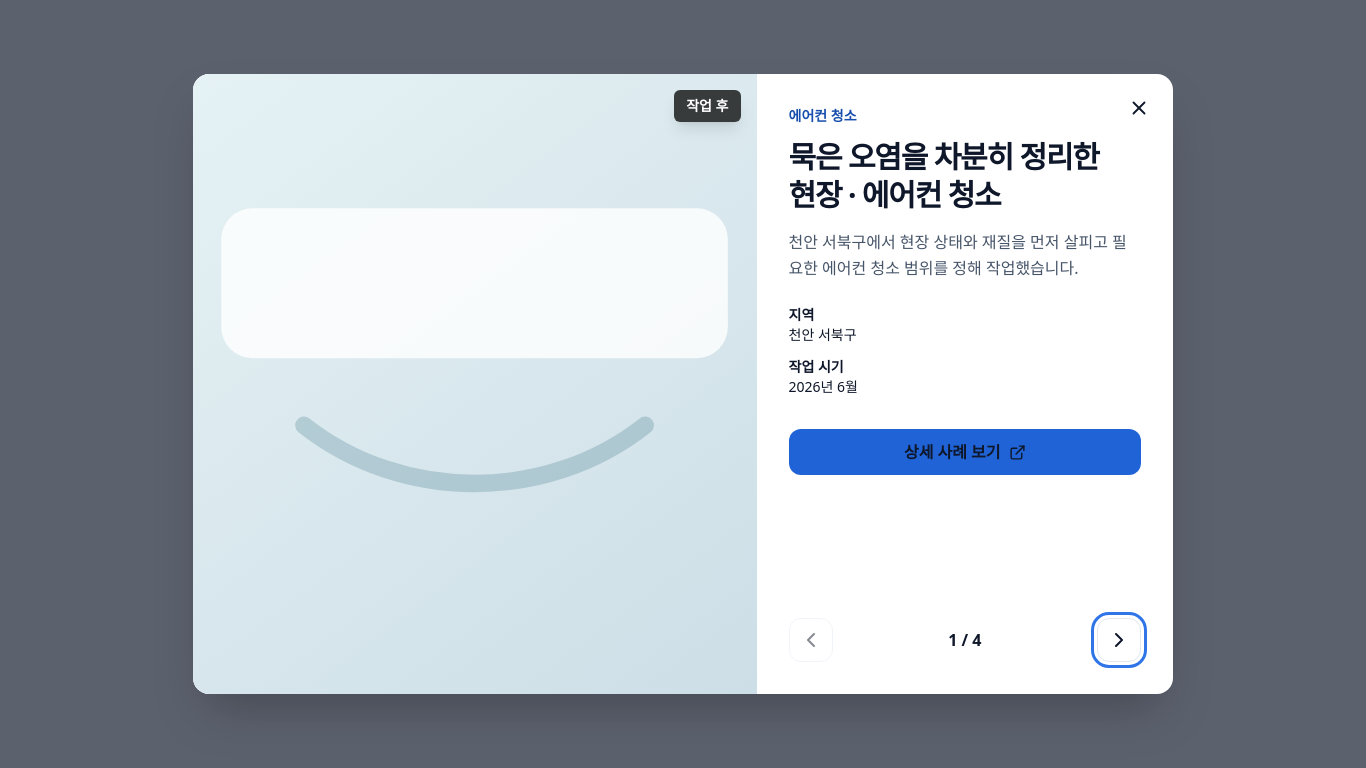
Scenario: case exploration › opens an accessible quick view and traverses only the supplied filtered list
Expected: the text with test id "quick-view-stage-badge" reads "작업 후", [686,96,728,115]
Expected: the button named "이전 사례" is disabled, [788,618,832,662]
Click the button named "다음 사례".
click(1119, 640)  # box [1097,618,1141,662]
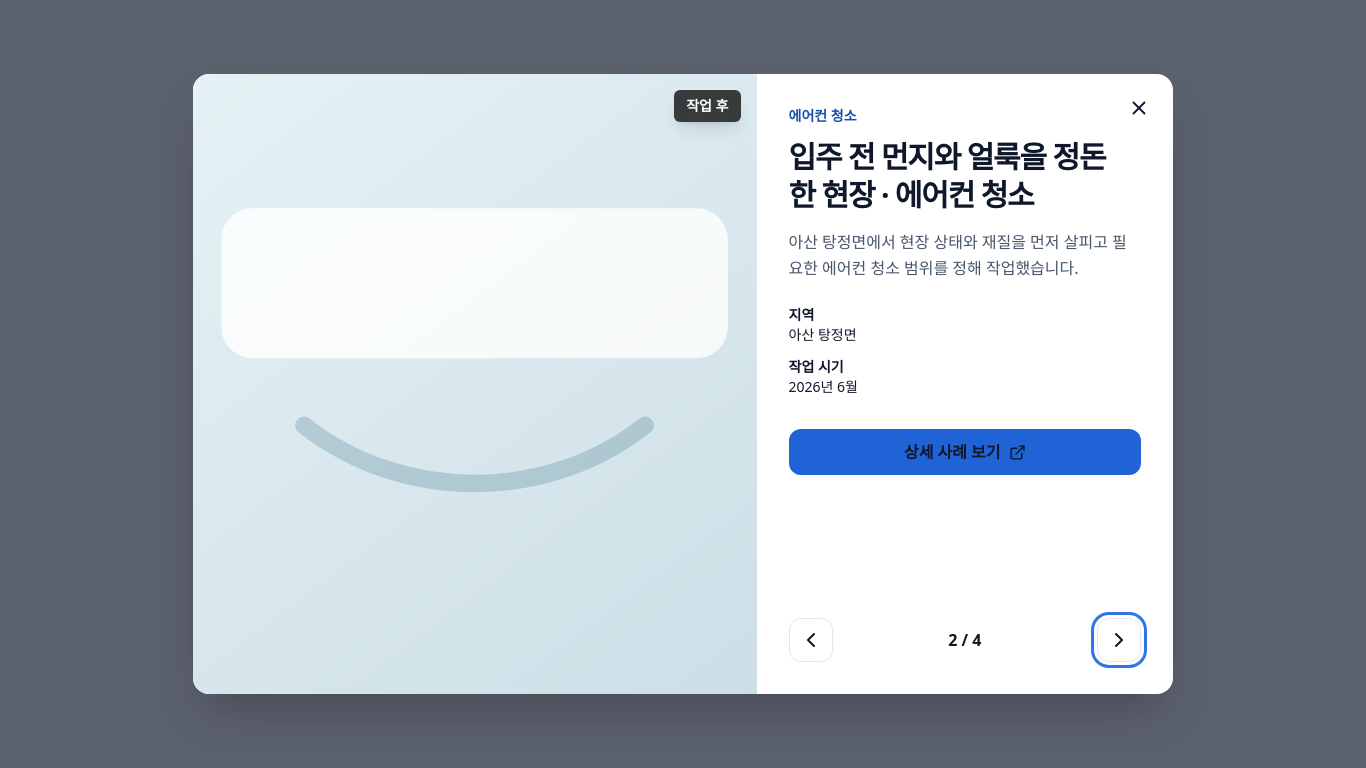
Expected: the text "2 / 4" is shown, [948,627,981,653]
